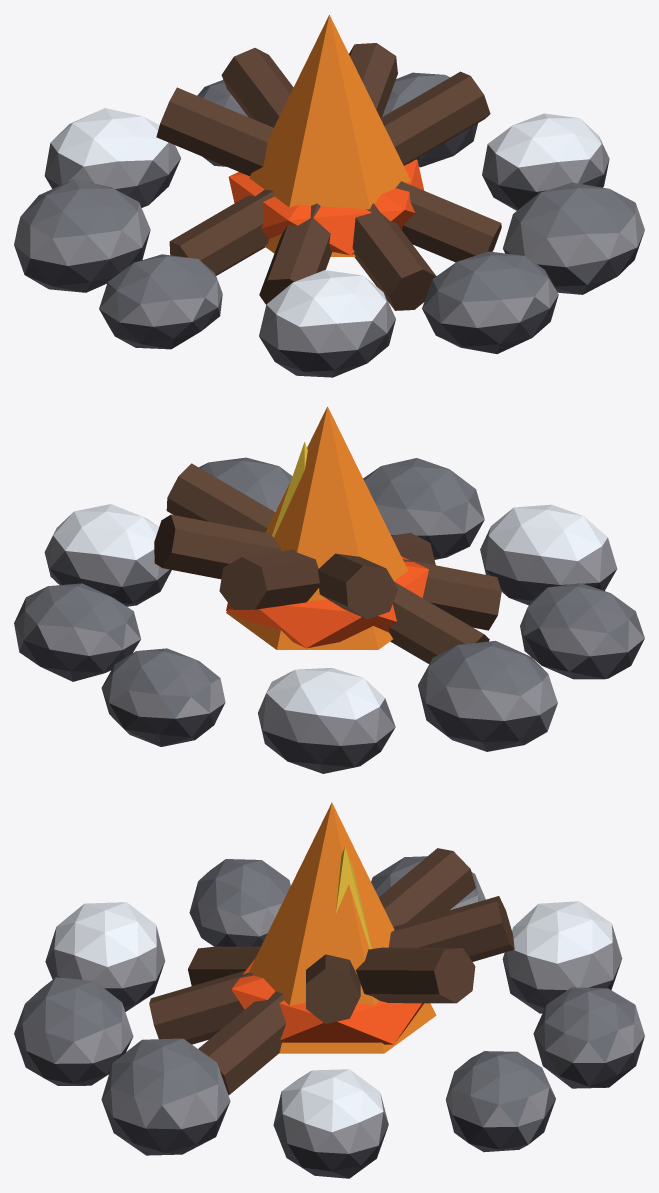
Rendered from campfire.obj.
3 views of the same model, one above another, from view 1: azimuth 30°, elevation 25°; view 2: azimuth 150°, elevation 25°; view 3: azimuth 270°, elevation 25° (orthographic). The views are drawn at different scales.
Visible parts, largest first — view 1: campfire_Main, campfire_Neon_fire, campfire_Neon_ember; view 2: campfire_Main, campfire_Neon_fire, campfire_Neon_ember, campfire_Neon_flame_yellow; view 3: campfire_Main, campfire_Neon_fire, campfire_Neon_ember, campfire_Neon_flame_yellow.
Boxes of the visible parts, x1=… form: campfire_Main: x1=14, y1=43, x2=644, y2=377; campfire_Neon_fire: x1=249, y1=14, x2=410, y2=256; campfire_Neon_ember: x1=228, y1=159, x2=424, y2=255; campfire_Main: x1=14, y1=457, x2=644, y2=773; campfire_Neon_fire: x1=226, y1=406, x2=408, y2=649; campfire_Neon_ember: x1=226, y1=556, x2=428, y2=648; campfire_Neon_flame_yellow: x1=272, y1=441, x2=307, y2=537; campfire_Main: x1=14, y1=848, x2=644, y2=1178; campfire_Neon_fire: x1=248, y1=802, x2=436, y2=1053; campfire_Neon_ember: x1=231, y1=959, x2=423, y2=1044; campfire_Neon_flame_yellow: x1=336, y1=846, x2=371, y2=949.
Size of the model in its own units: 4.92 by 2.22 by 4.83.
Materials: 1 (1 with a texture image).
